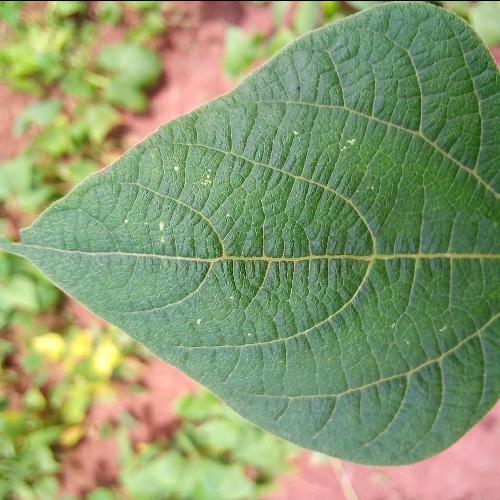sehat: (97, 62, 500, 448)
